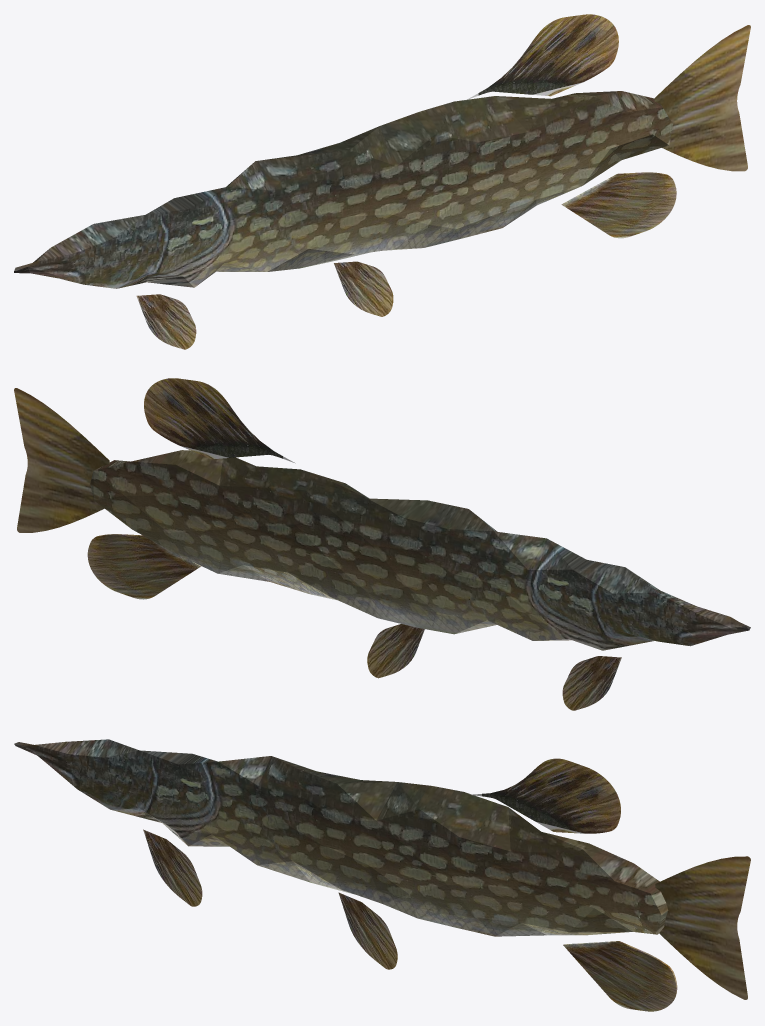
Rendered from norhthan pike.fbx.
3 views of the same model, one above another, from view 1: azimuth 30°, elevation 25°; view 2: azimuth 150°, elevation 25°; view 3: azimuth 330°, elevation 25° (orthographic).
Visible parts, largest first — view 1: Line001, Line002, Line009, Line010, Line011, Line012; view 2: Line001, Line002, Line009, Line010, Line011, Line012; view 3: Line001, Line002, Line009, Line010, Line012, Line011.
Part boxes in pixels (left/top/right/bottom): Line001: left=14, top=91, right=672, bottom=288; Line002: left=654, top=25, right=750, bottom=171; Line009: left=466, top=14, right=618, bottom=99; Line010: left=561, top=172, right=676, bottom=238; Line011: left=136, top=294, right=196, bottom=349; Line012: left=334, top=261, right=393, bottom=316; Line001: left=90, top=450, right=750, bottom=650; Line002: left=14, top=388, right=109, bottom=532; Line009: left=144, top=378, right=295, bottom=463; Line010: left=87, top=534, right=201, bottom=599; Line011: left=562, top=656, right=621, bottom=710; Line012: left=367, top=624, right=424, bottom=678; Line001: left=14, top=739, right=668, bottom=936; Line002: left=655, top=856, right=750, bottom=999; Line009: left=469, top=758, right=620, bottom=833; Line010: left=563, top=941, right=677, bottom=1011; Line012: left=338, top=892, right=397, bottom=969; Line011: left=143, top=829, right=202, bottom=906.
Bounding box in the file's own units: 1212 × 400 × 70.78.
Materials: 4 (4 with a texture image).
